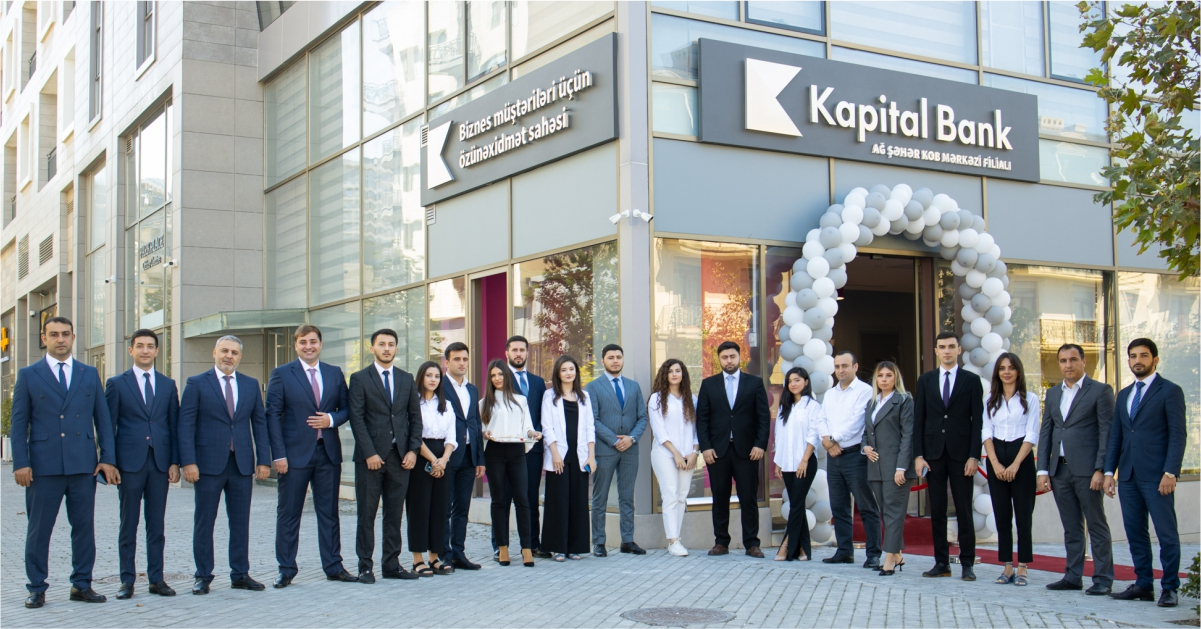Kapital Bank: (740, 55, 804, 138), (424, 118, 457, 189)
